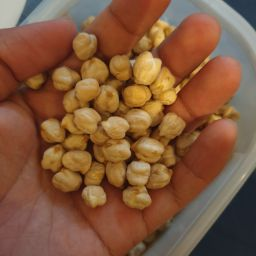White Chickpeas: (44, 27, 197, 225), (74, 128, 177, 203), (138, 49, 180, 156), (36, 108, 80, 186), (73, 40, 117, 118), (99, 91, 134, 165)
